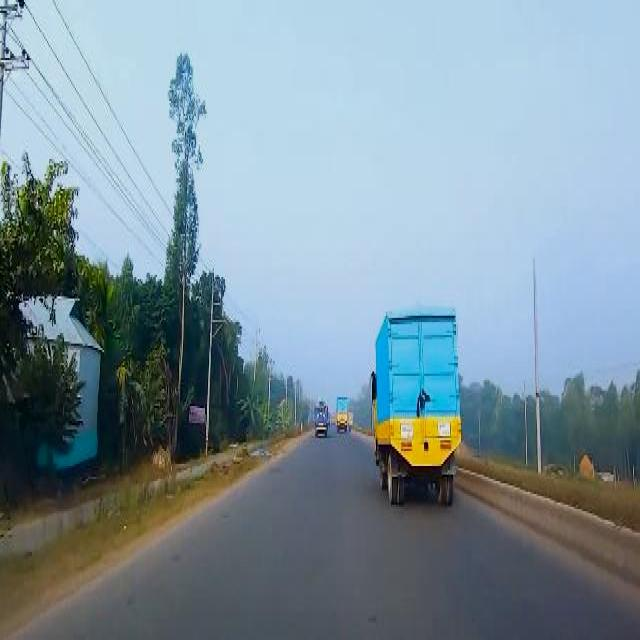TRUCK: (370, 308, 465, 498)
